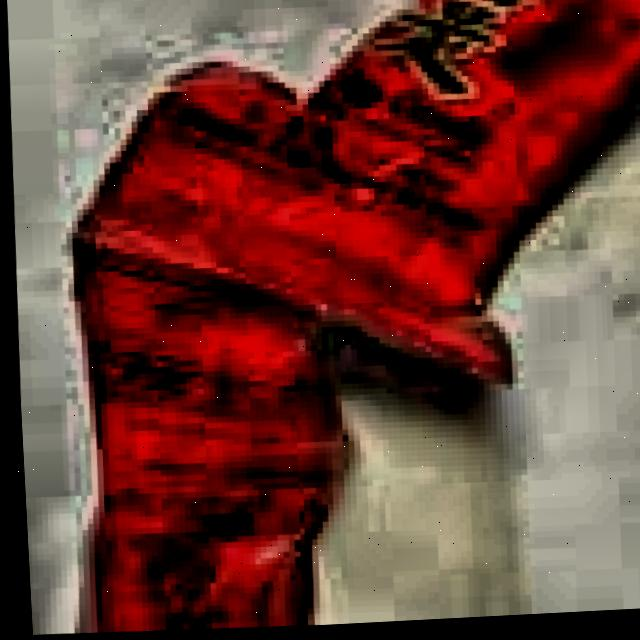paper: (63, 0, 640, 634)
